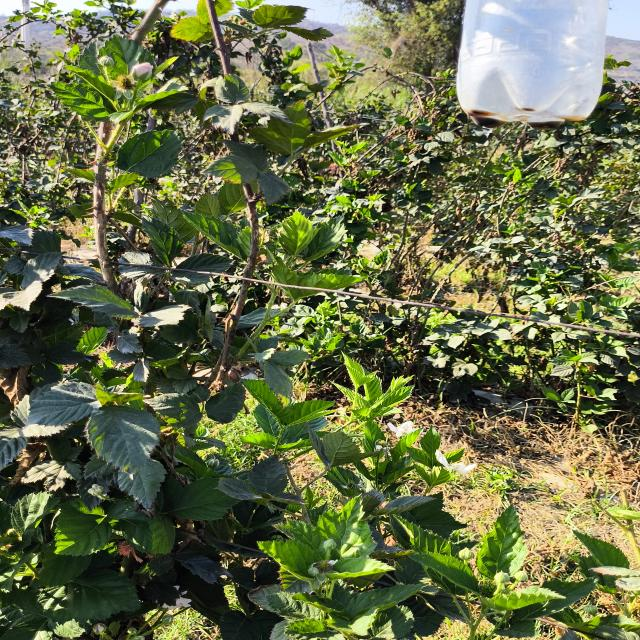boton: (132, 62, 153, 80), (458, 548, 474, 561), (99, 55, 115, 67), (494, 572, 510, 584), (323, 539, 337, 551), (513, 571, 528, 582), (308, 565, 319, 577)
